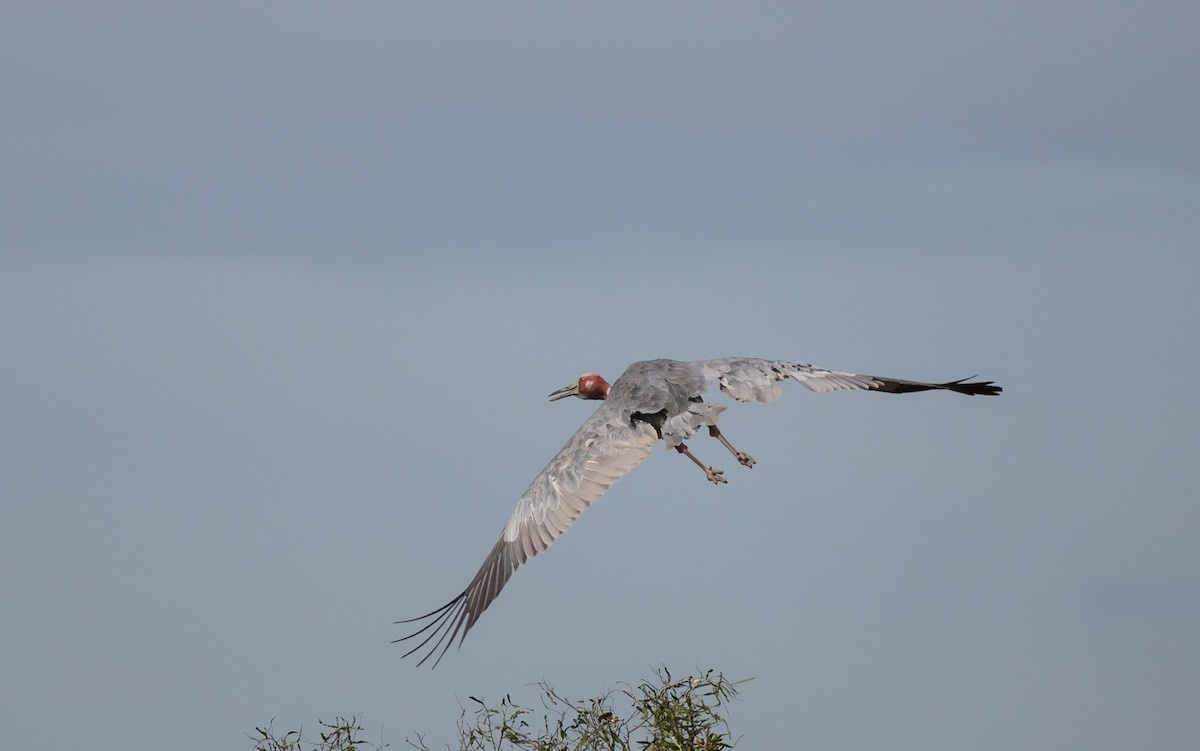crane: (410, 344, 1009, 660)
